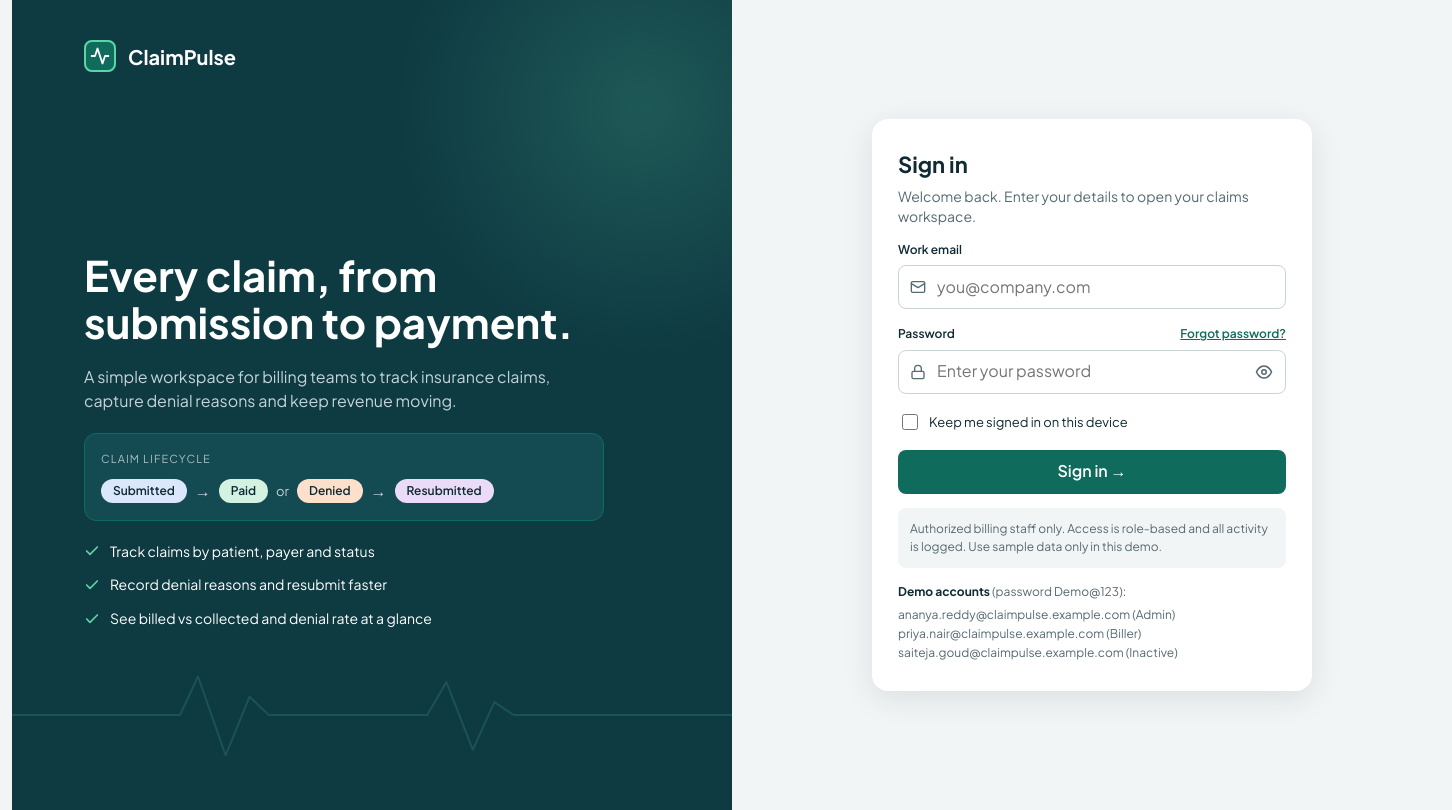
Test case: App routing and login › rejects wrong credentials
The width and height of the screenshot is (1452, 810).
Type "ananya.reddy@claimpulse.example.com" into the field labelled "Work email" at x=1092, y=287, box [898, 265, 1286, 309]
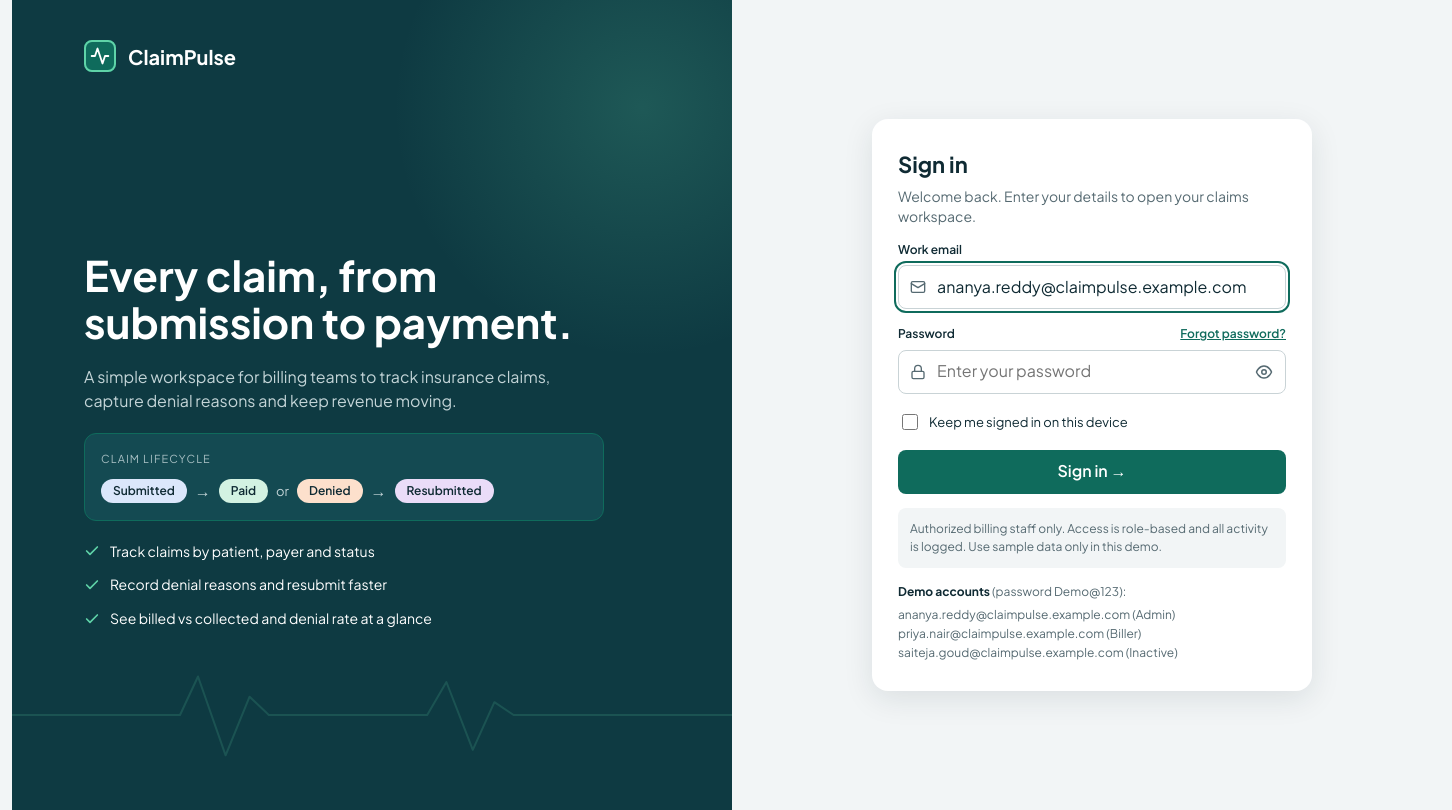
Type "wrong" into the password field labelled "Password" at x=1092, y=372, box [898, 350, 1286, 394]
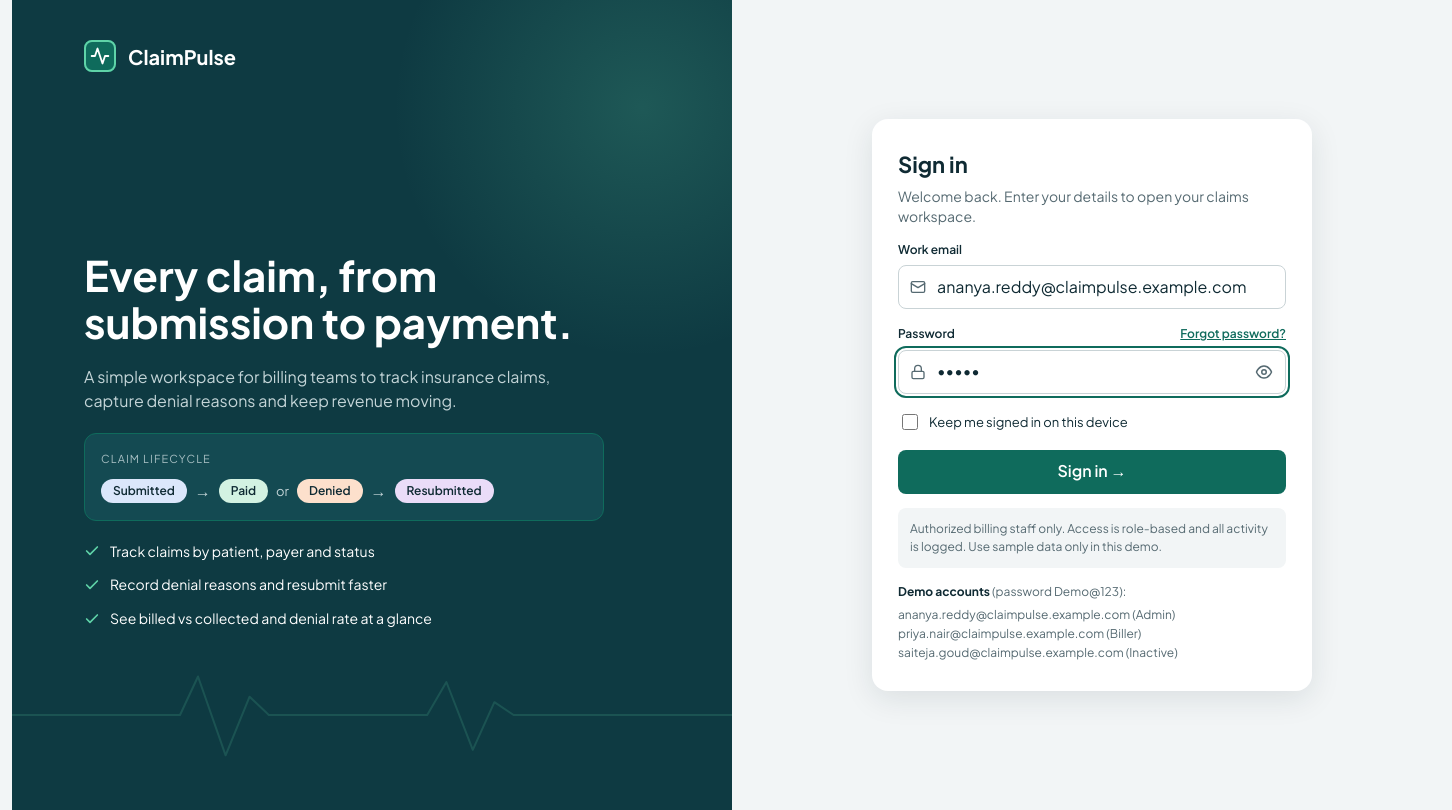
Click the button "Sign in →" at x=1092, y=472, box [898, 450, 1286, 494]
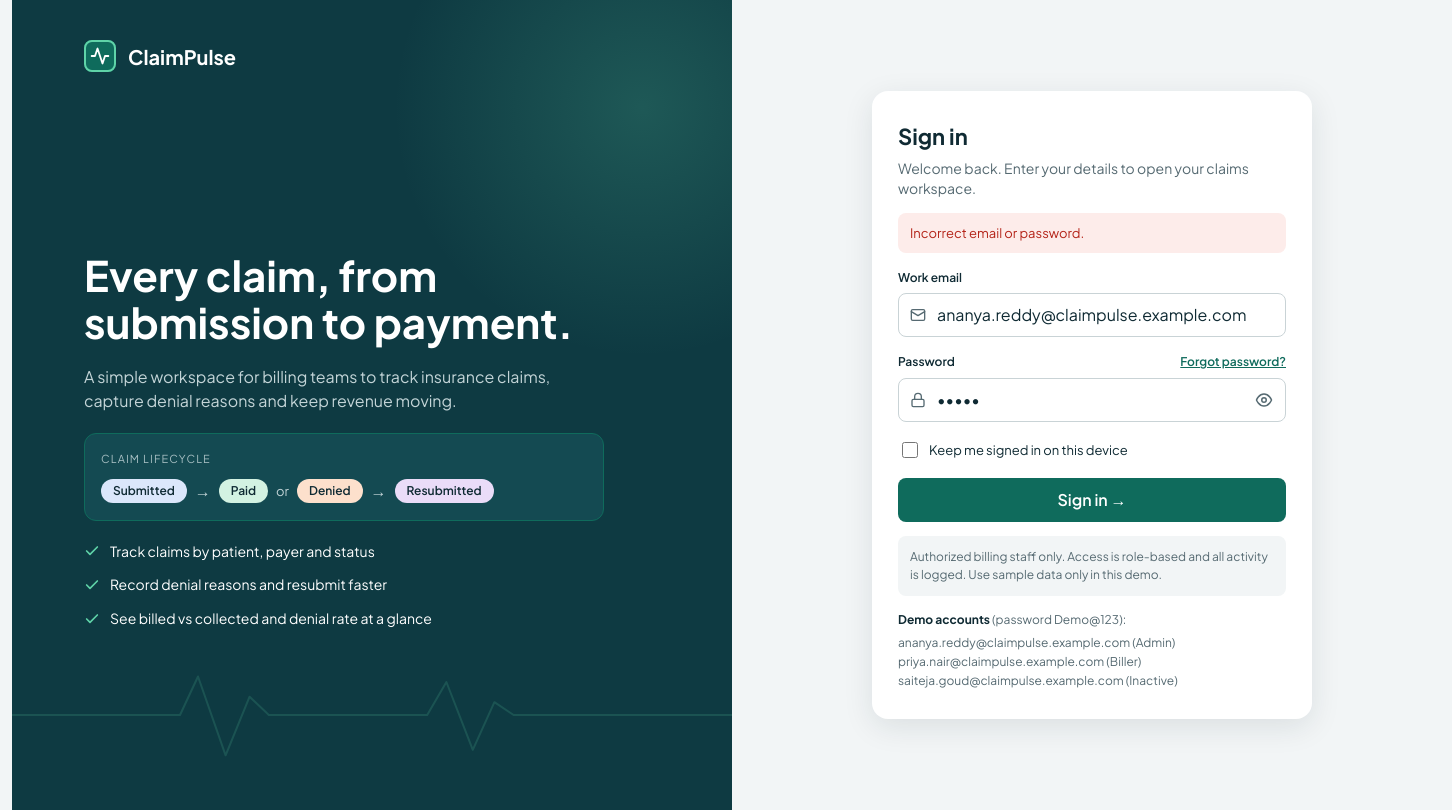
Expected: the message reads "Incorrect email or password.", [910, 225, 1084, 241]
